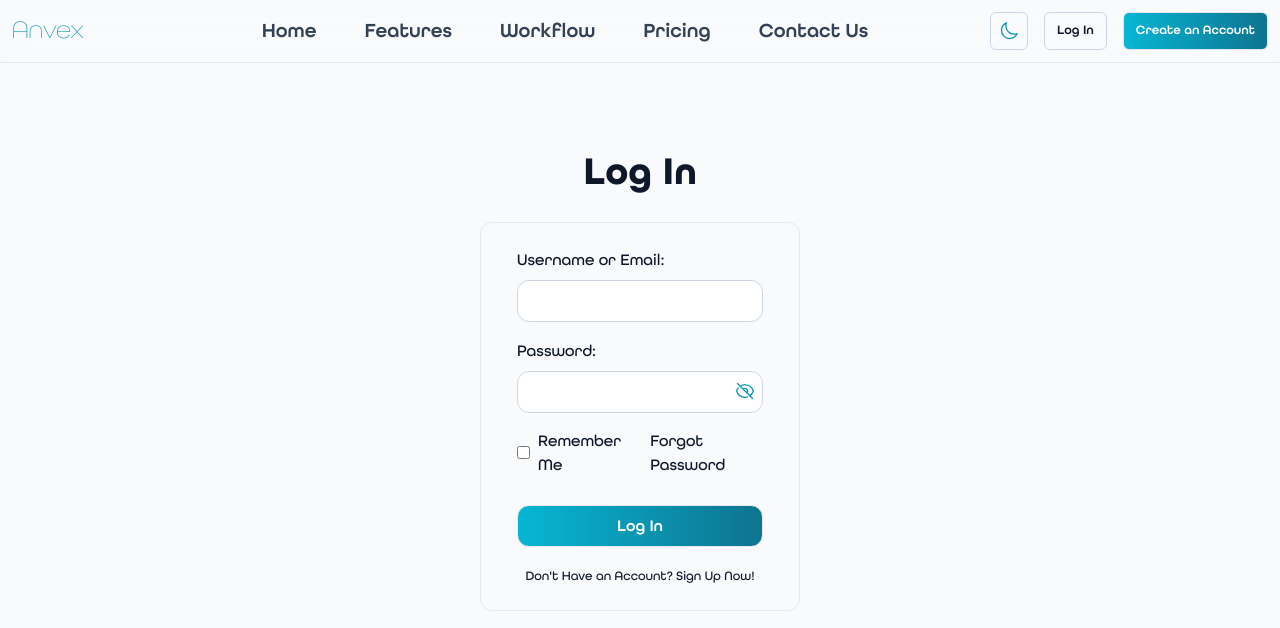
Test case: validation › complains about the identifier alone when only the password is filled
The width and height of the screenshot is (1280, 628).
Expected: the element with test id "route-login" is shown, [480,148,800,611]
Step 1. Type "hunter2" into the password field labelled "Password:" → (640, 392), box [517,371,763,413]
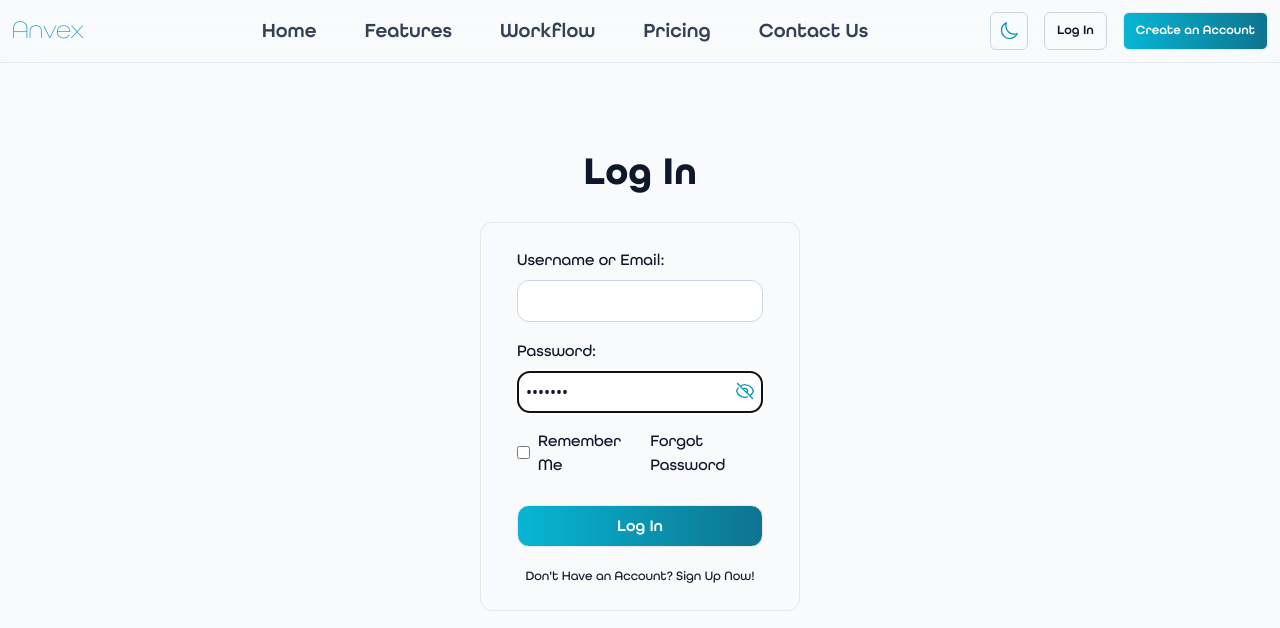
Step 2. Click the button "Log In" → (640, 526), box [517,505,763,547]
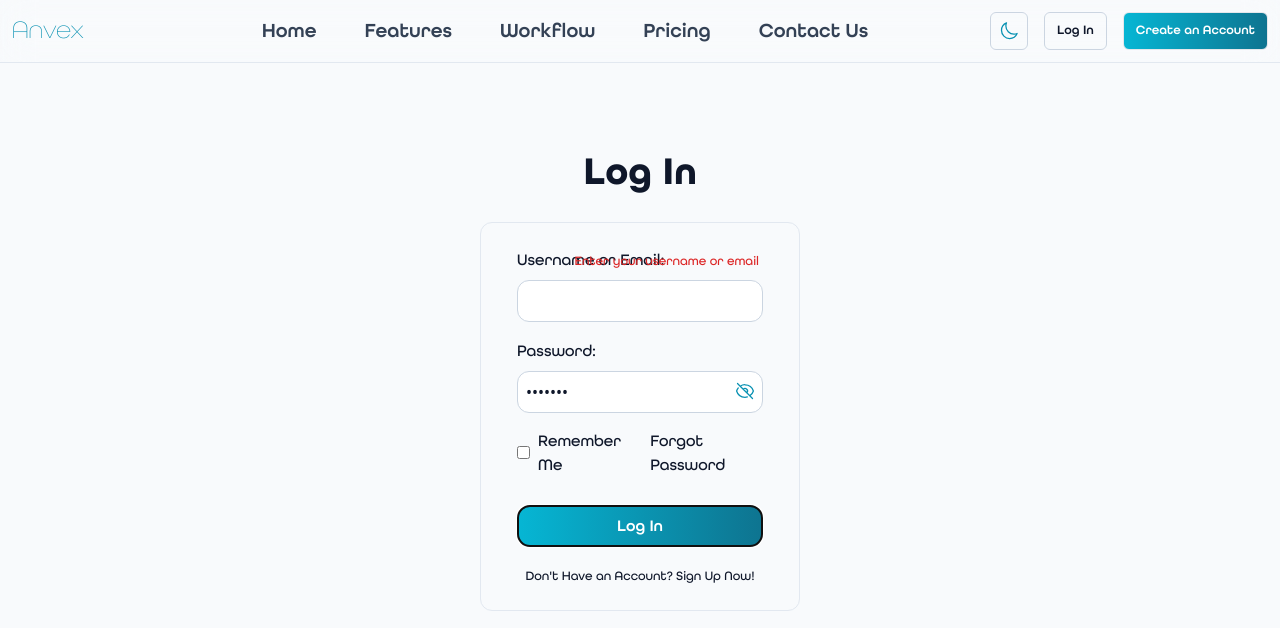
Expected: the message with test id "login-username-error" reads "Enter your username or email", [574,253,759,269]
